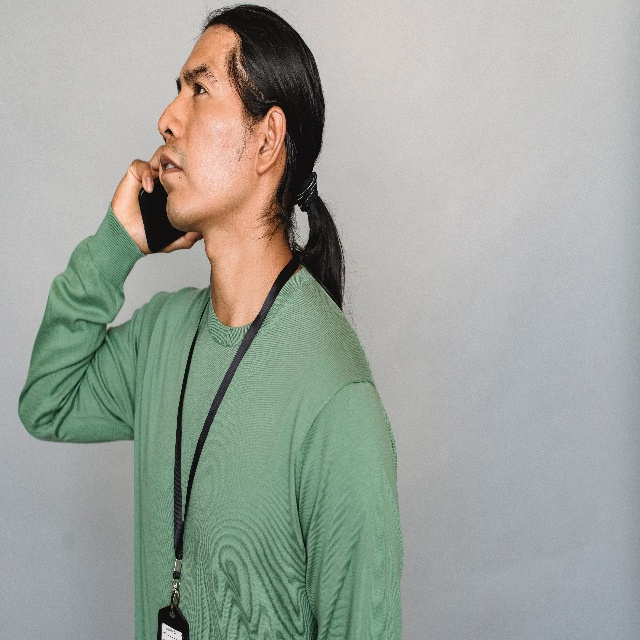Sin_guantes: (112, 143, 201, 256)
